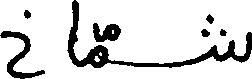X: (0, 5, 42, 78), (212, 12, 251, 67), (88, 18, 105, 72), (68, 0, 77, 71)
